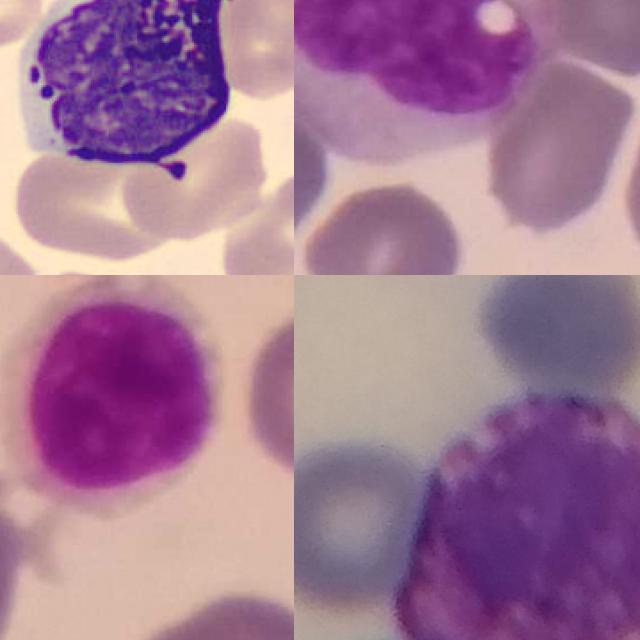Basophil: (400, 390, 640, 640), (2, 0, 252, 184)
Lymphocyte: (0, 275, 230, 516)
Monocyte: (294, 0, 553, 160)
RBC: (118, 110, 274, 244), (220, 163, 294, 275), (215, 0, 294, 103)
